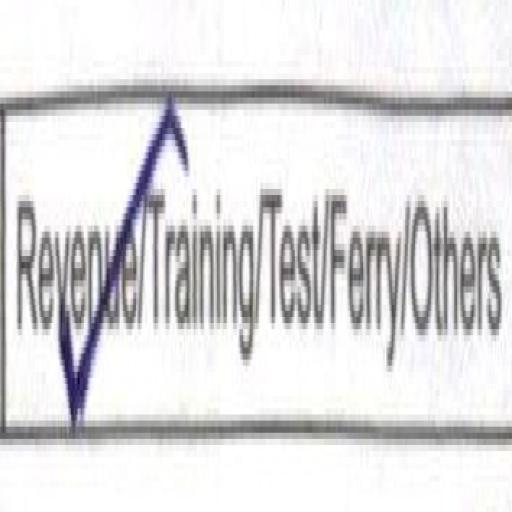check: (0, 0, 140, 508)
